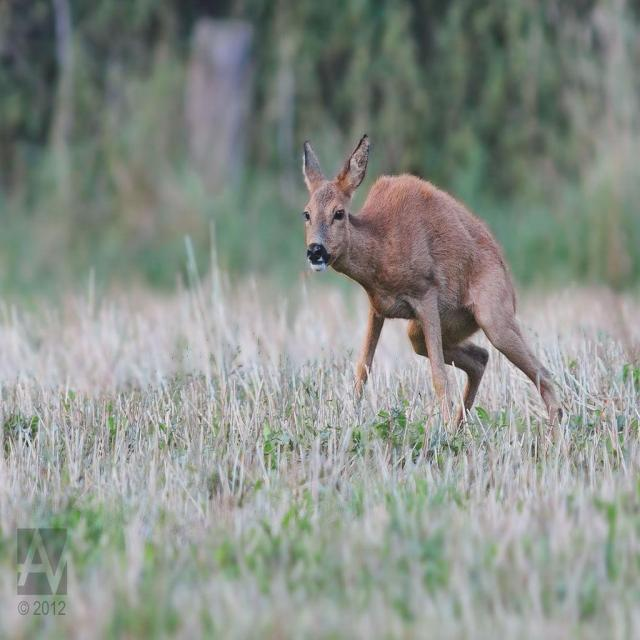Deer: (305, 138, 573, 472)
